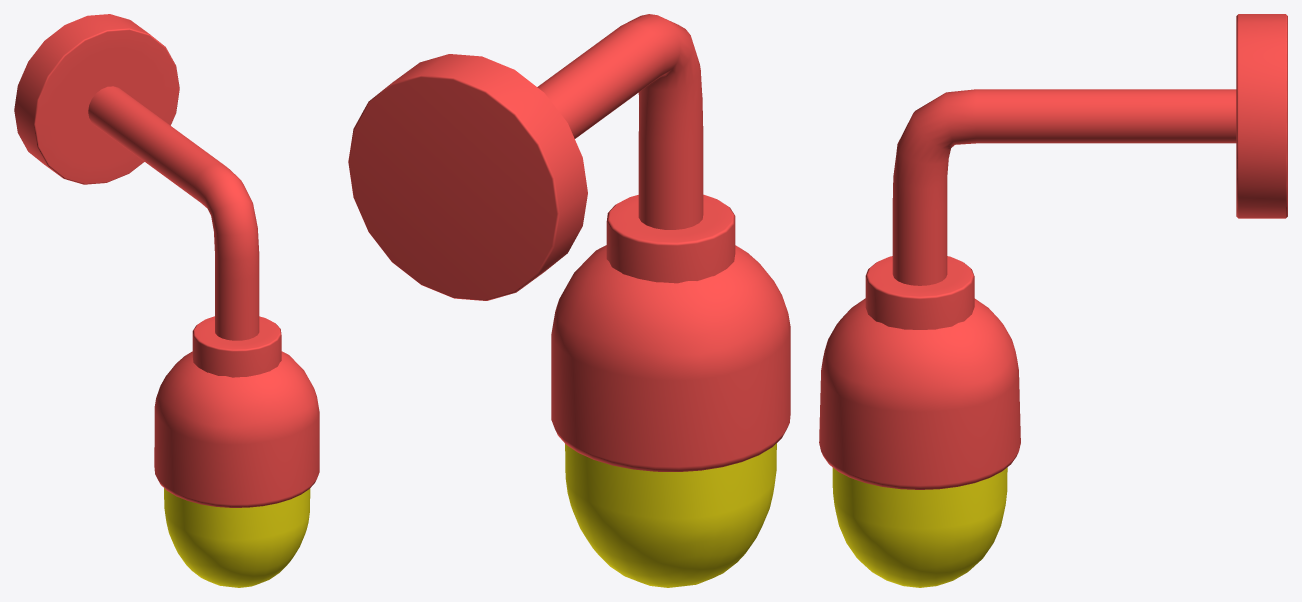
The model's file is City_4_Wall_Lamp_3.glb.
The picture shows the model from 3 angles, left to right: view 1: azimuth 30°, elevation 25°; view 2: azimuth 150°, elevation 25°; view 3: azimuth 270°, elevation 25°; orthographic projection. The views are drawn at different scales.
Visible parts, largest first — view 1: City_4_Wall_Lamp_3; view 2: City_4_Wall_Lamp_3; view 3: City_4_Wall_Lamp_3.
Part boxes in pixels (x1,y1,x2,y2): City_4_Wall_Lamp_3: (14,14,319,587); City_4_Wall_Lamp_3: (348,14,790,587); City_4_Wall_Lamp_3: (819,14,1287,587).
Bounding box in the file's own units: 0.2756 × 0.8214 × 0.6264.
Materials: 1 (1 with a texture image).
